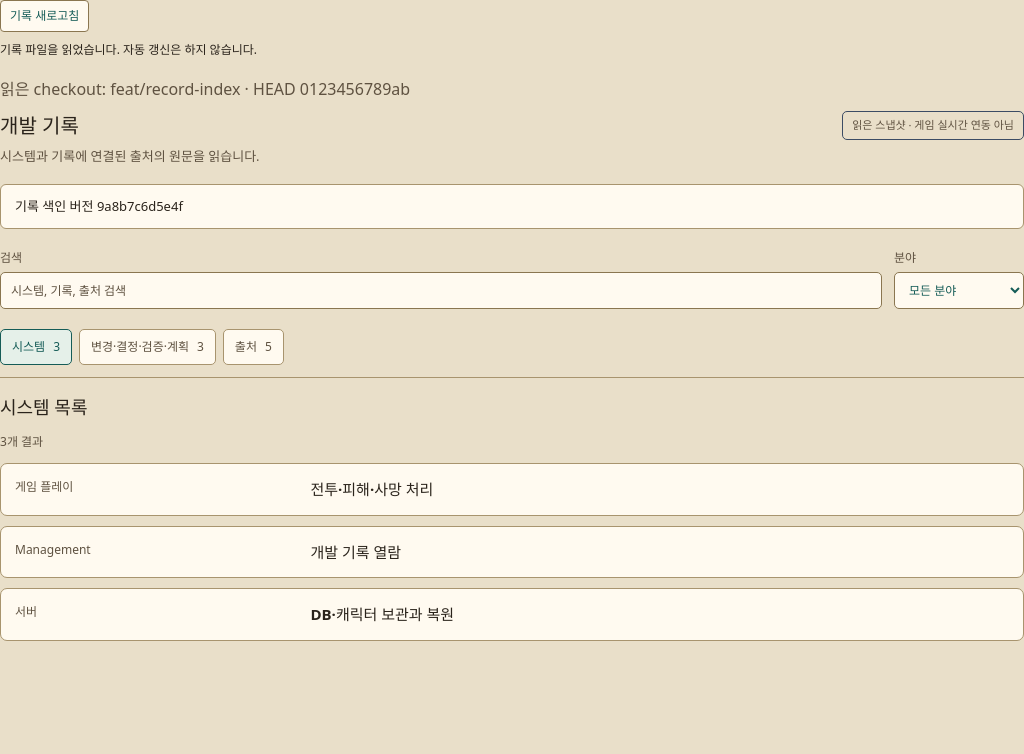
Scenario: reading a source section › shows a failed read as 끊긴 링크 with the failure message and never the previously read body
This screenshot has width=1024, height=754.
Expected: the search field labelled "검색" is shown, [0,272,882,309]
Click the button "Management 개발 기록 열람" at point(53, 549), box [0,526,1023,578]
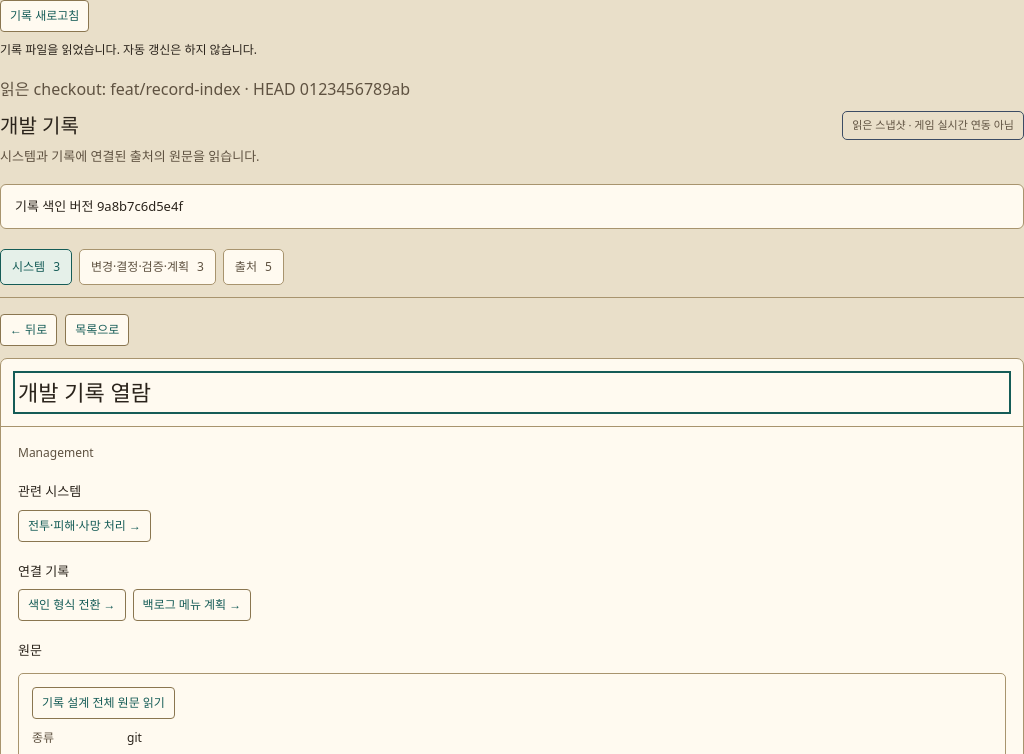
Click the button "기록 설계 전체 원문 읽기" at point(103, 702), box [32,686,175,718]
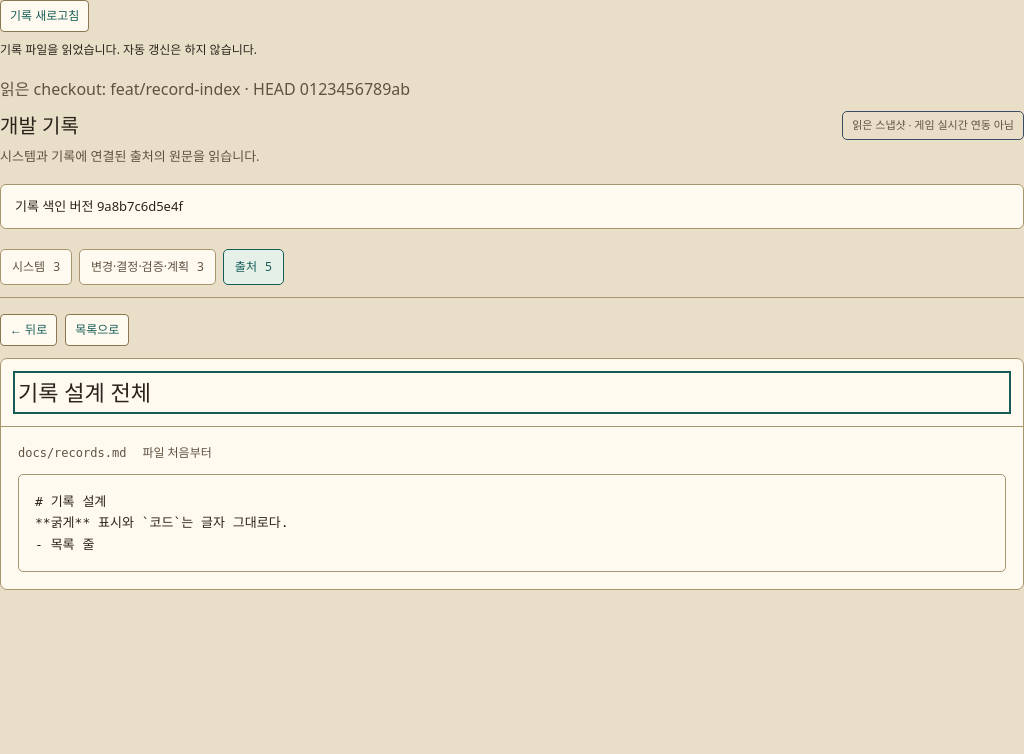
Result: the text named "원문 구간" is shown at [18,474,1006,572]
Click the button "← 뒤로" at point(29, 330), box [0,314,57,346]
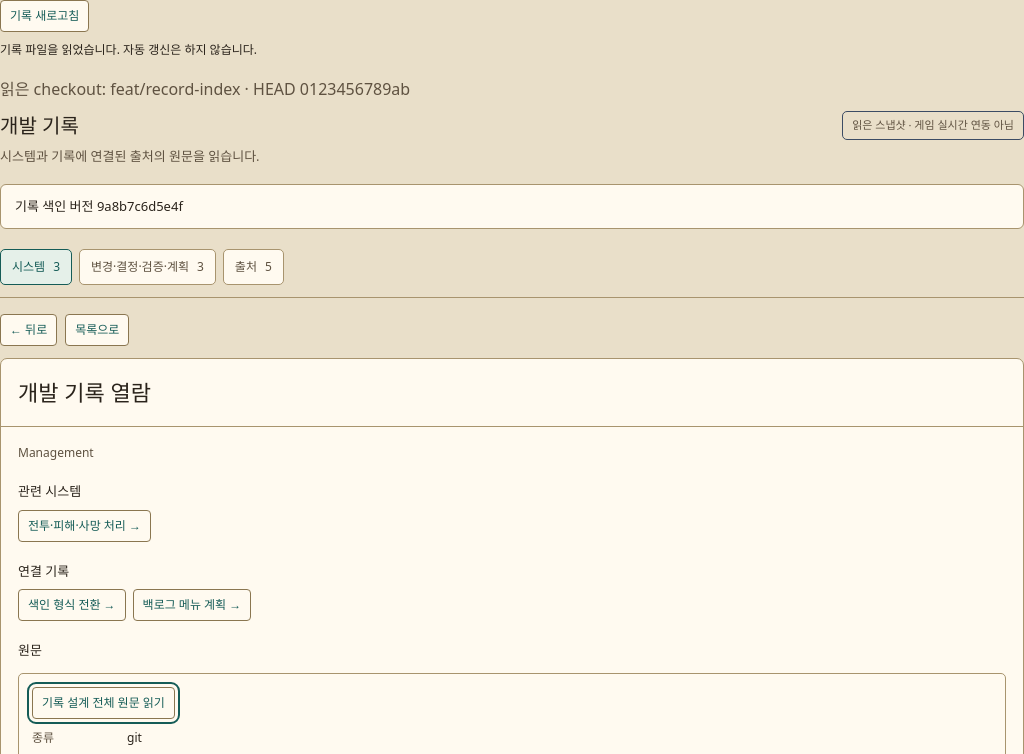
Click the button "← 뒤로" at point(29, 330), box [0,314,57,346]
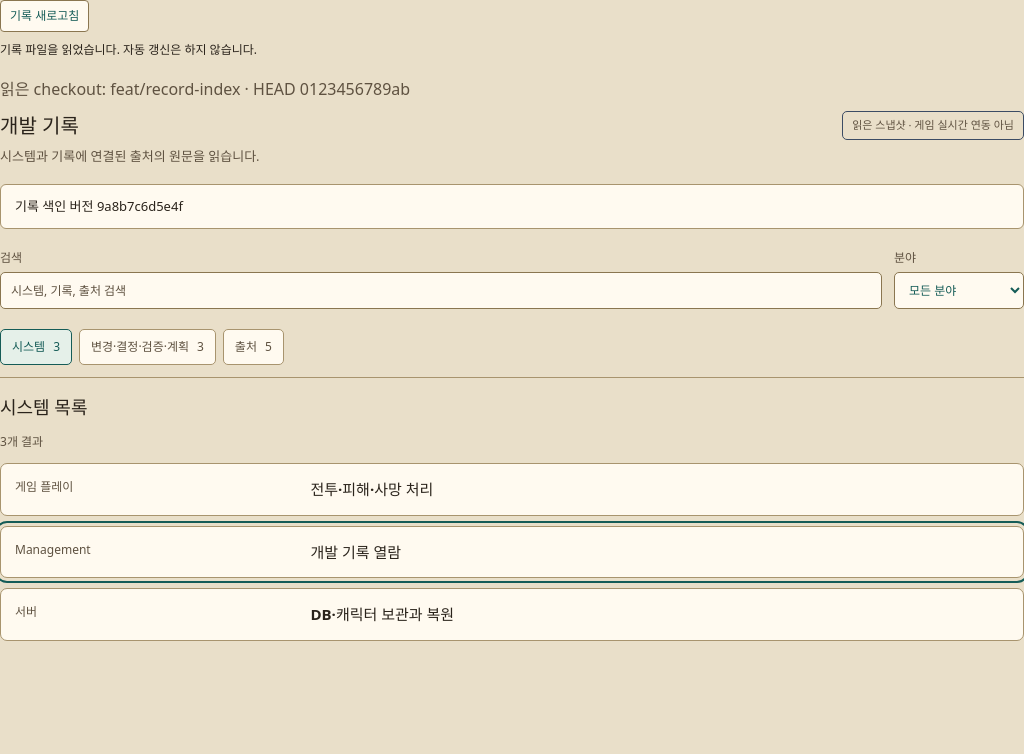
Click the button "게임 플레이 전투·피해·사망 처리" at point(44, 486), box [0,463,1023,516]
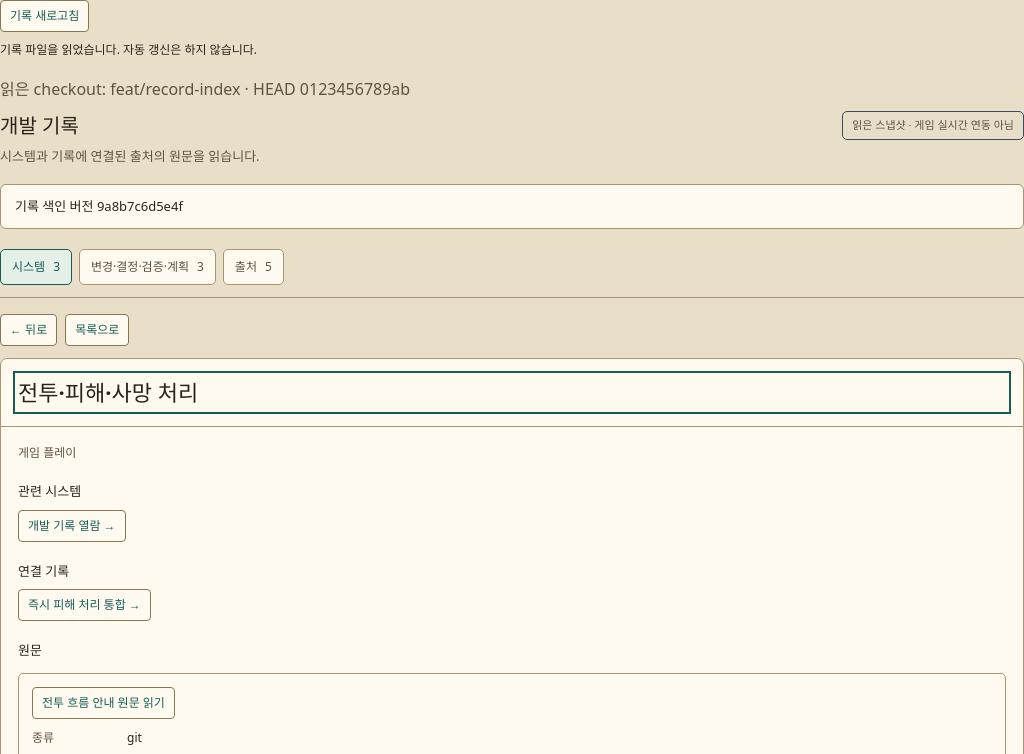
Click the button "전투 흐름 안내 원문 읽기" at point(103, 702), box [32,686,175,718]
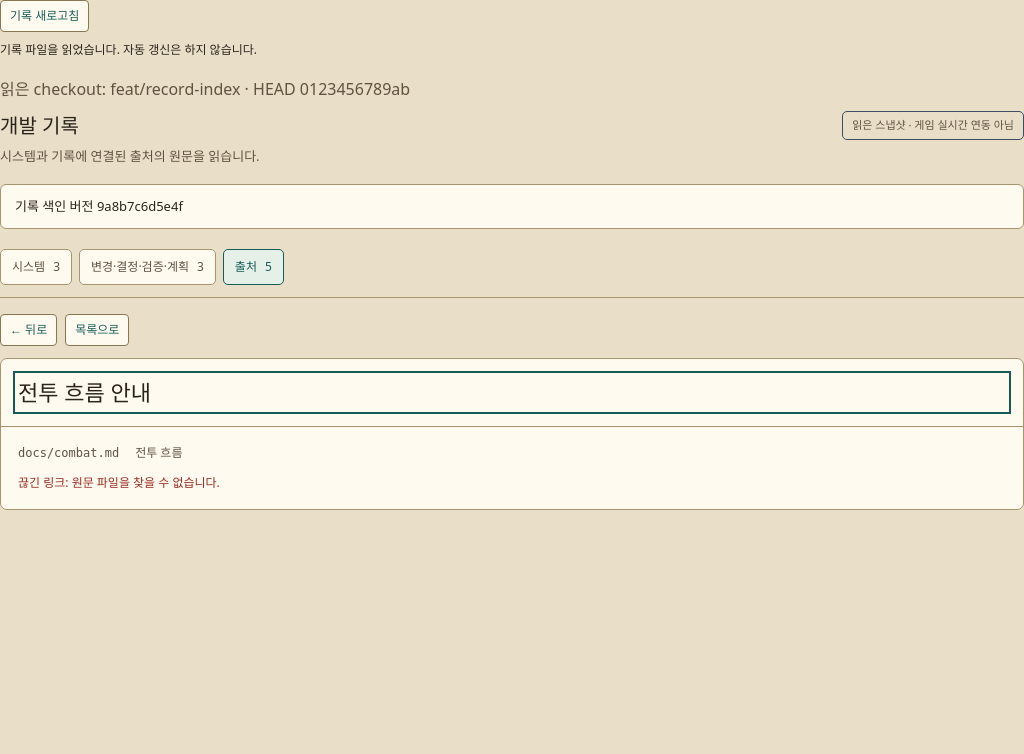
Expected: the text "글자 그대로다" is not shown
Result: the message "끊긴 링크: 원문 파일을 찾을 수 없습니다." is shown at [18,474,220,491]
